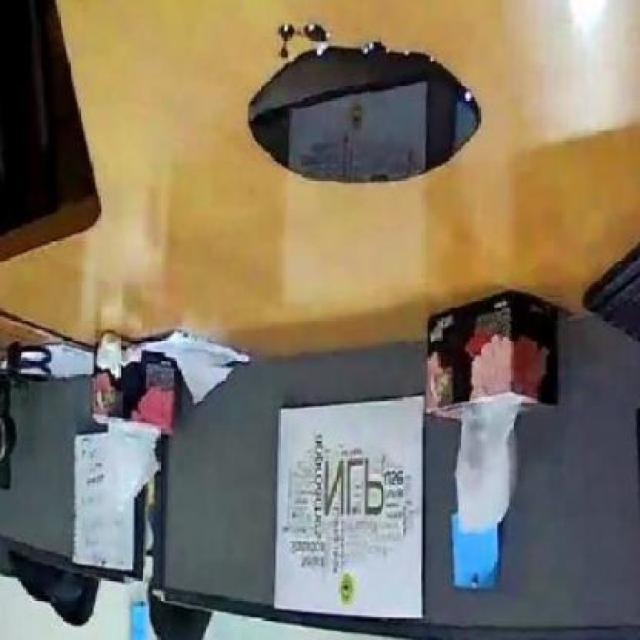spillage: (248, 21, 482, 184)
